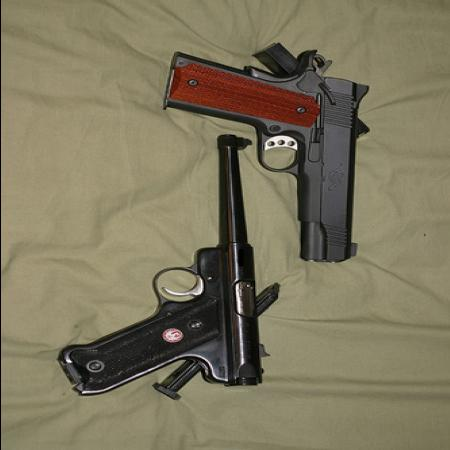Pistol: (62, 132, 260, 402), (161, 52, 381, 268)
